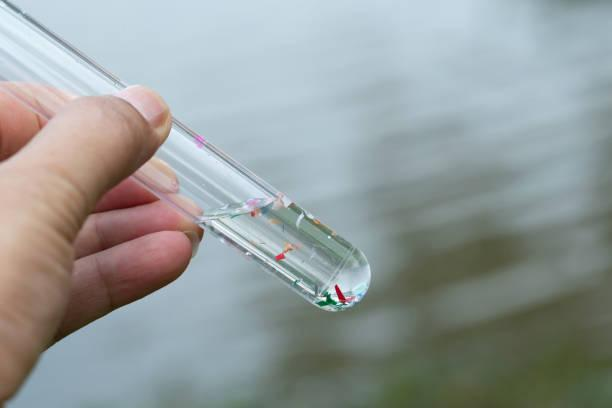Test tube: (0, 0, 397, 324)
